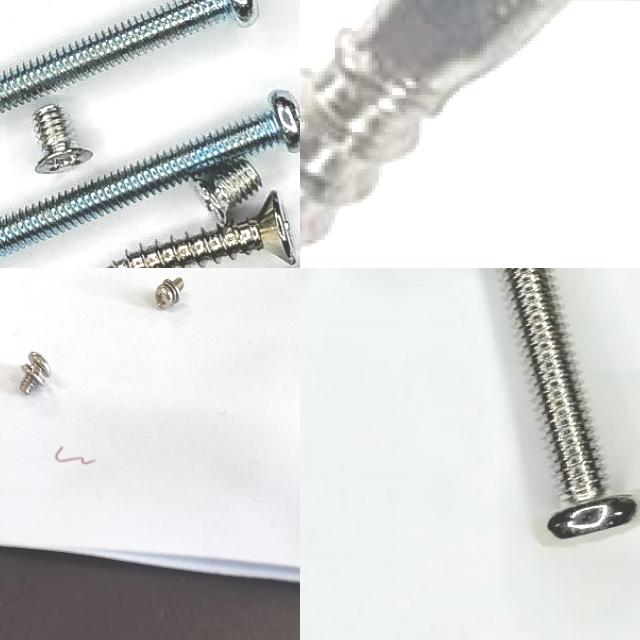Screw: (300, 0, 640, 259), (0, 91, 300, 257), (503, 268, 637, 538), (0, 0, 257, 113), (108, 193, 296, 268), (34, 104, 93, 174), (199, 160, 262, 225), (17, 348, 53, 397), (154, 273, 185, 313)
